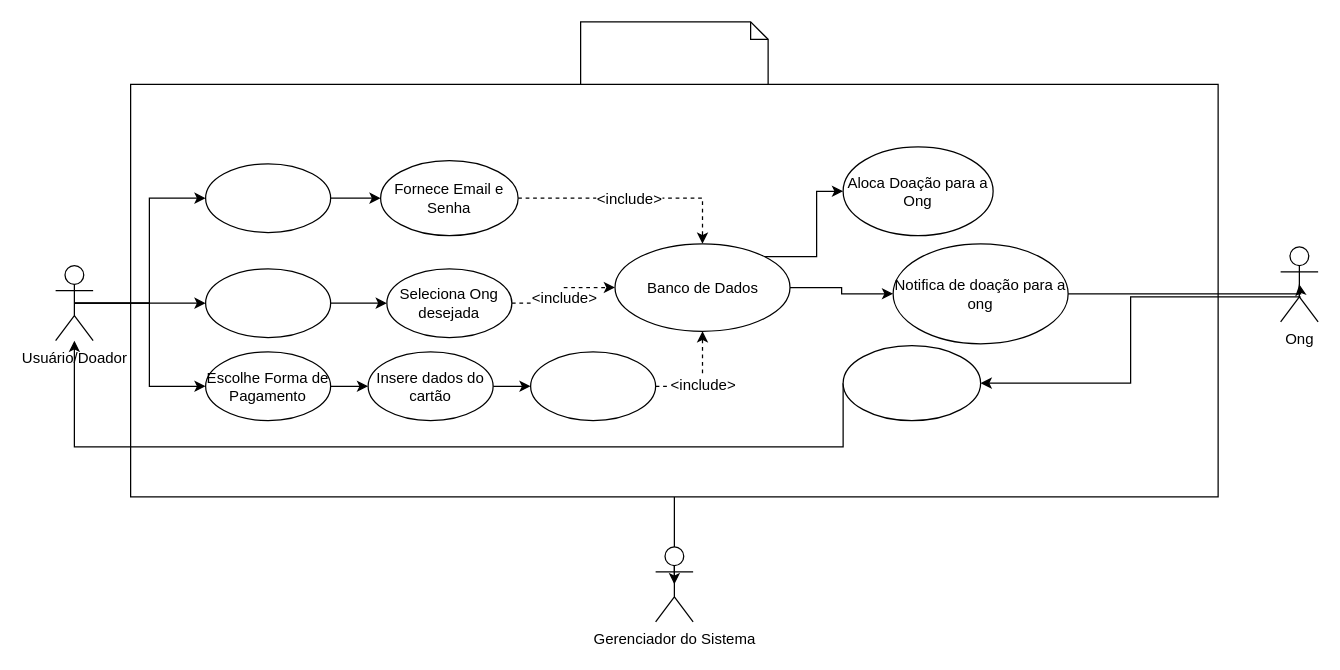
The diagram is 1340 pixels wide and 670 high, and some of its shapes have lost their labels. The centre of each missing label's shape, as x and y in pixels:
"Caso de Uso - 03 Doacão" goes at pixel 673 52.
"Confirma Pagamento" goes at pixel 592 386.
"Realiza Login" goes at pixel 267 197.
"Retorno Confirmação de Recebimento da Doação" goes at pixel 911 382.
"Verifica Informações de Ongs" goes at pixel 267 303.
